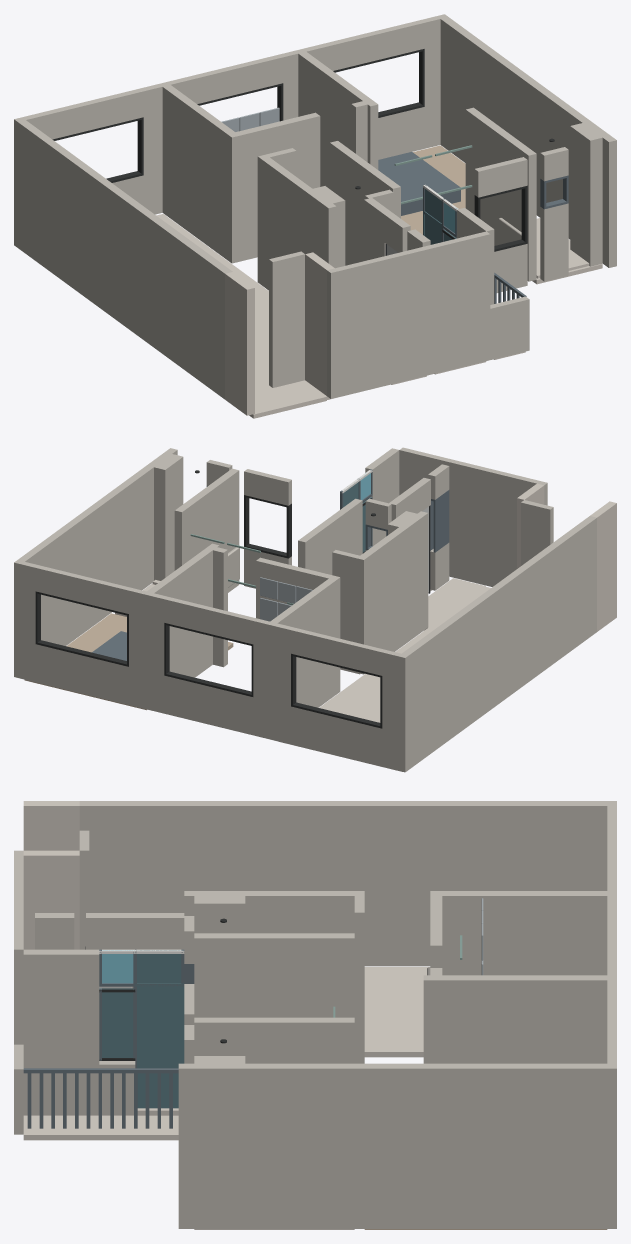
File: serina-shell.glb
3 views of the same model, one above another, from view 1: azimuth 30°, elevation 25°; view 2: azimuth 150°, elevation 25°; view 3: azimuth 270°, elevation 25° (orthographic). The views are drawn at different scales.
Visible parts, largest first — view 1: Outer west above foyer full 2700 assumed, South facade kitchen through yard full 2700 assumed, Outer east upper full 2700 assumed, Living B2 partition full 2700 assumed, Bath2 west full 2700 assumed, B3 Bath1 divider full 2700 assumed, B2 door wall full 2700 assumed, Master west partition full 2700 assumed.001, Main entry wall and right pier full 2700 assumed.001, Bath 1 shower pipe nib full 2700 assumed, Foyer left return beside main door full 2700 assumed, Bath2 B3 divider full 2700 assumed (+23 smaller); view 2: Outer west above foyer full 2700 assumed, Outer east upper full 2700 assumed, South facade kitchen through yard full 2700 assumed, Bath2 west full 2700 assumed, North facade full 2700 assumed.001, B3 Bath1 divider full 2700 assumed, Living B2 partition full 2700 assumed, North facade full 2700 assumed.002, Master west partition full 2700 assumed.001, Master main window full sill wall assumed, Living main window full sill wall assumed, B2 main window full sill wall assumed (+29 smaller); view 3: Outer east upper full 2700 assumed, Outer west above foyer full 2700 assumed, Master west partition full 2700 assumed.001, Living B2 partition full 2700 assumed, Bath2 B3 divider full 2700 assumed, Yard ledge dividing wall full model, B3 Bath1 divider full 2700 assumed, Public shell west, Bath2 west full 2700 assumed, Yard ledge glass door panel, Foyer kitchen east return full 2700 assumed, AC ledge clear 700 (+20 smaller).
Part boxes in pixels (x1=…): Outer west above foyer full 2700 assumed: x1=14, y1=117, x2=232, y2=396; South facade kitchen through yard full 2700 assumed: x1=327, y1=231, x2=490, y2=398; Outer east upper full 2700 assumed: x1=439, y1=14, x2=616, y2=267; Living B2 partition full 2700 assumed: x1=162, y1=85, x2=239, y2=263; Bath2 west full 2700 assumed: x1=261, y1=157, x2=336, y2=290; B3 Bath1 divider full 2700 assumed: x1=465, y1=107, x2=536, y2=281; B2 door wall full 2700 assumed: x1=235, y1=112, x2=320, y2=261; Master west partition full 2700 assumed.001: x1=298, y1=51, x2=378, y2=188; Main entry wall and right pier full 2700 assumed.001: x1=269, y1=251, x2=304, y2=387; Bath 1 shower pipe nib full 2700 assumed: x1=570, y1=123, x2=602, y2=266; Foyer left return beside main door full 2700 assumed: x1=225, y1=272, x2=254, y2=415; Bath2 B3 divider full 2700 assumed: x1=330, y1=141, x2=400, y2=265; Outer west above foyer full 2700 assumed: x1=398, y1=516, x2=596, y2=770; Outer east upper full 2700 assumed: x1=14, y1=448, x2=177, y2=678; South facade kitchen through yard full 2700 assumed: x1=399, y1=447, x2=547, y2=586; Bath2 west full 2700 assumed: x1=360, y1=511, x2=428, y2=651; North facade full 2700 assumed.001: x1=253, y1=618, x2=293, y2=744; B3 Bath1 divider full 2700 assumed: x1=174, y1=468, x2=239, y2=592; Living B2 partition full 2700 assumed: x1=270, y1=575, x2=340, y2=707; North facade full 2700 assumed.002: x1=129, y1=588, x2=167, y2=713; Master west partition full 2700 assumed.001: x1=147, y1=543, x2=219, y2=677; Master main window full sill wall assumed: x1=35, y1=644, x2=128, y2=704; Living main window full sill wall assumed: x1=291, y1=706, x2=382, y2=766; B2 main window full sill wall assumed: x1=164, y1=675, x2=253, y2=735; Outer east upper full 2700 assumed: x1=178, y1=1063, x2=616, y2=1228; Outer west above foyer full 2700 assumed: x1=79, y1=801, x2=616, y2=966; Master west partition full 2700 assumed.001: x1=423, y1=975, x2=607, y2=1063; Living B2 partition full 2700 assumed: x1=430, y1=891, x2=607, y2=975; Bath2 B3 divider full 2700 assumed: x1=194, y1=933, x2=354, y2=1017; Yard ledge dividing wall full model: x1=23, y1=949, x2=99, y2=1114; B3 Bath1 divider full 2700 assumed: x1=194, y1=1017, x2=354, y2=1063; Public shell west: x1=364, y1=967, x2=429, y2=1057; Bath2 west full 2700 assumed: x1=184, y1=891, x2=354, y2=933; Yard ledge glass door panel: x1=137, y1=986, x2=181, y2=1108; Foyer kitchen east return full 2700 assumed: x1=23, y1=850, x2=79, y2=949; AC ledge clear 700: x1=23, y1=1115, x2=178, y2=1140.
Bounding box in the file's own units: 9.66 × 2.8 × 9.2.
